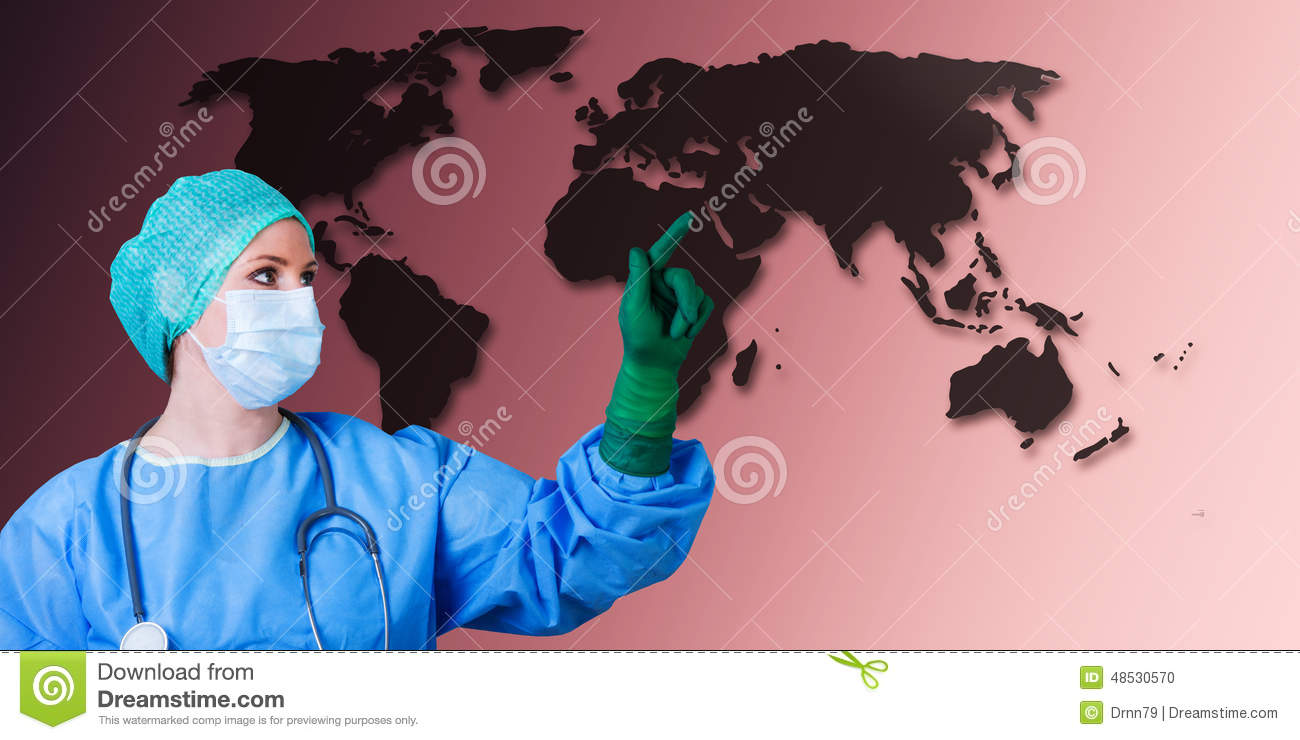mask: (217, 288, 329, 414)
